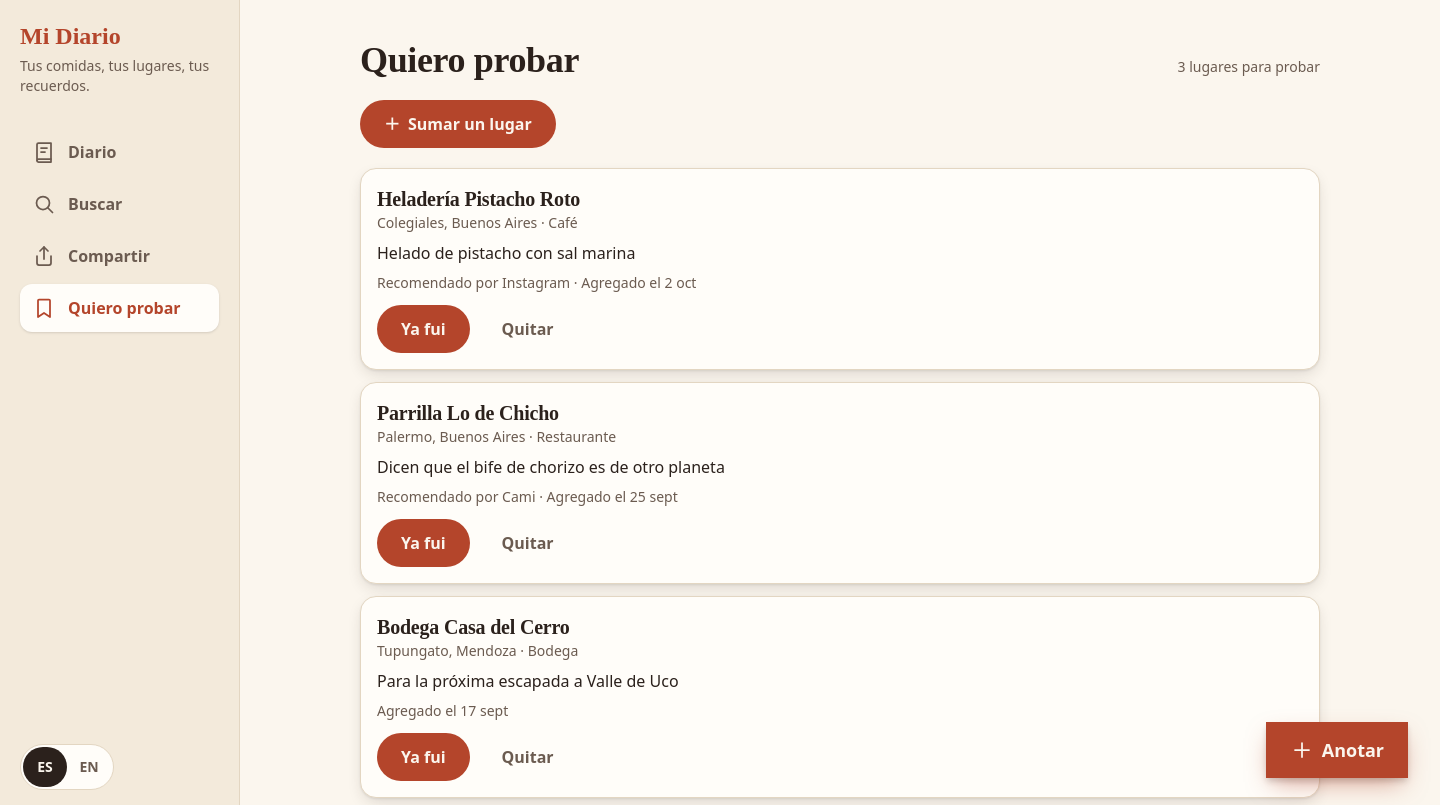
Test case: Wishlist ("Quiero probar") › adding a place › asks you to choose a place first
Click the button "＋ Sumar un lugar" at (458, 124), box left=360, top=100, right=556, bottom=148
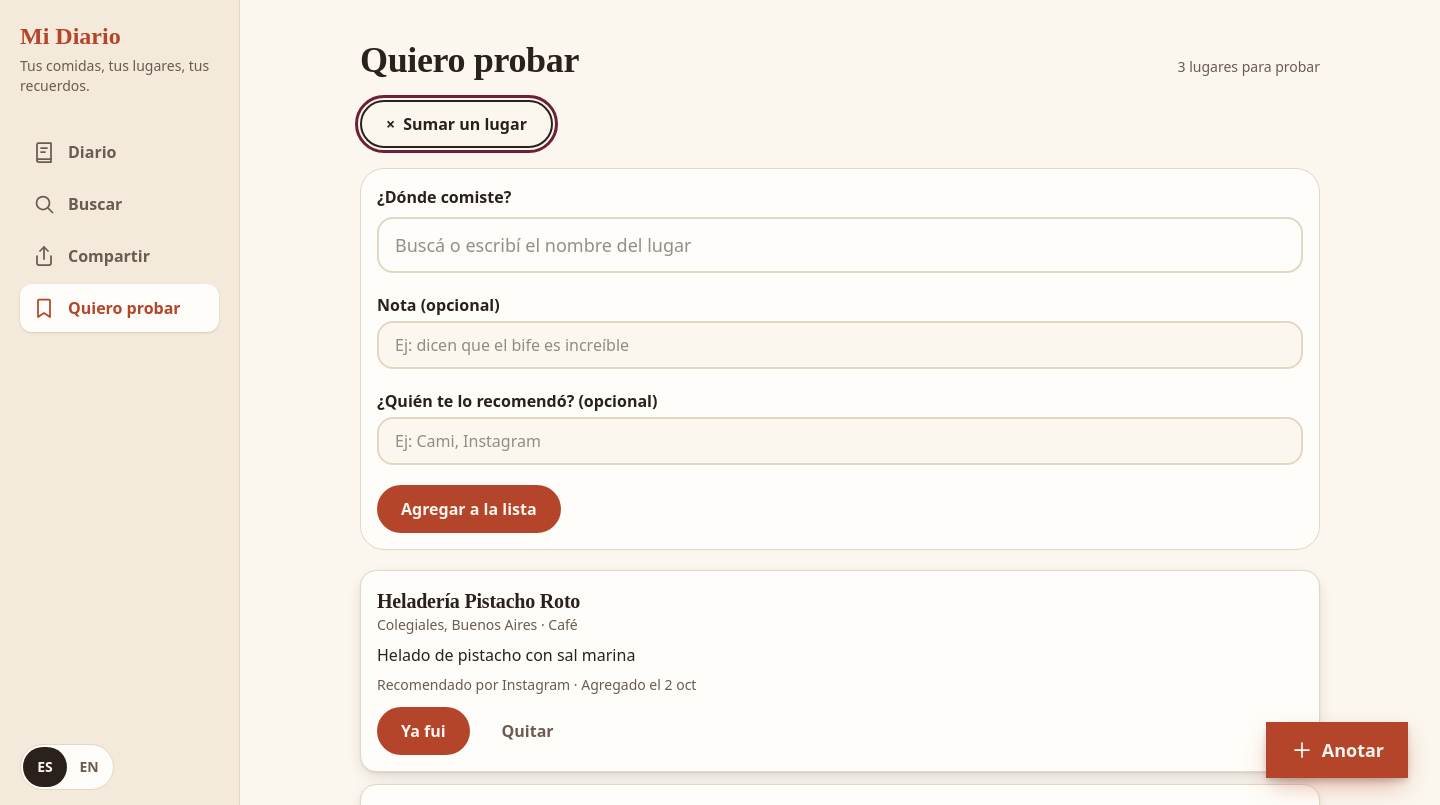
Click the button "Agregar a la lista" at (469, 509), box left=377, top=485, right=561, bottom=533
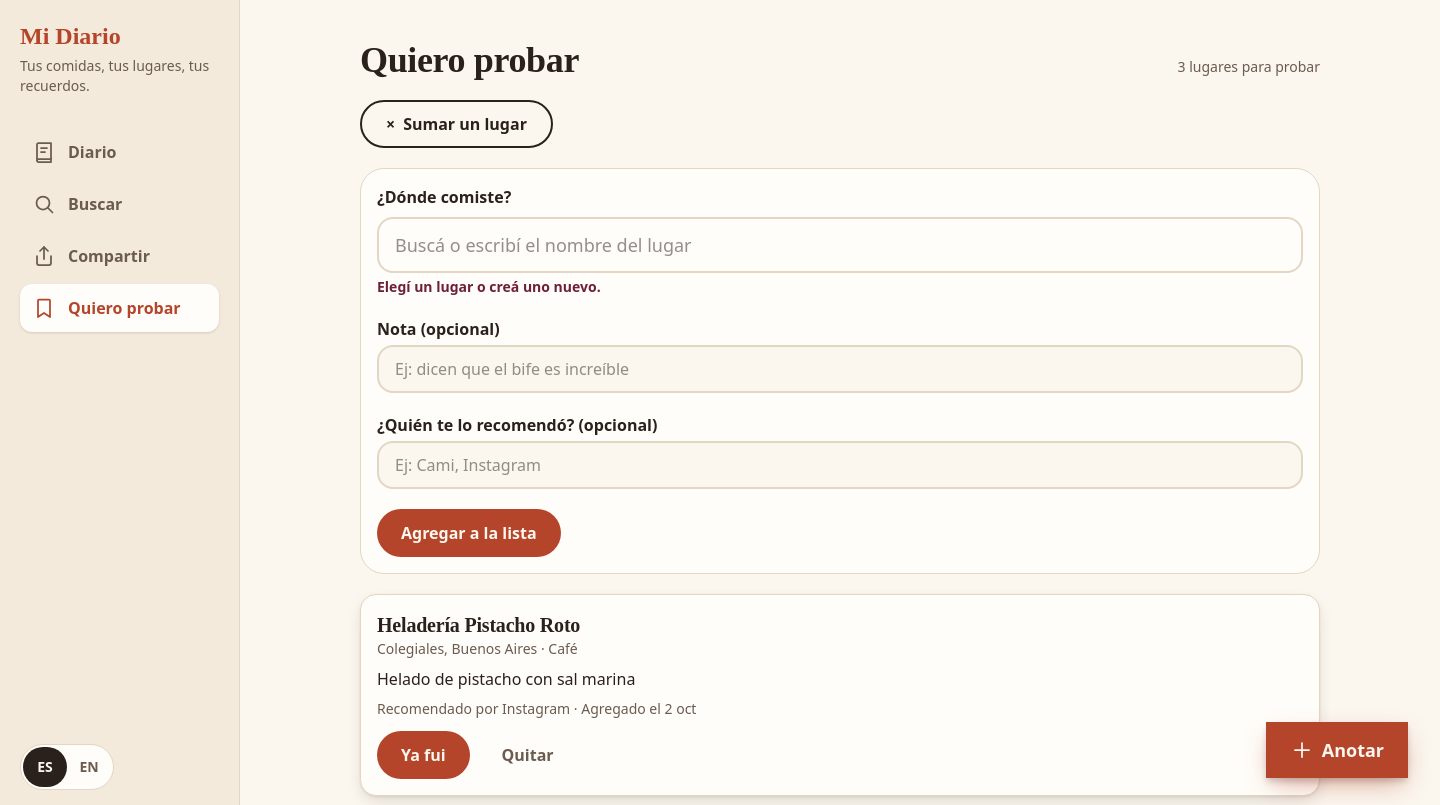
Result: the text "Elegí un lugar o creá uno nuevo." is shown at left=377, top=277, right=601, bottom=296
